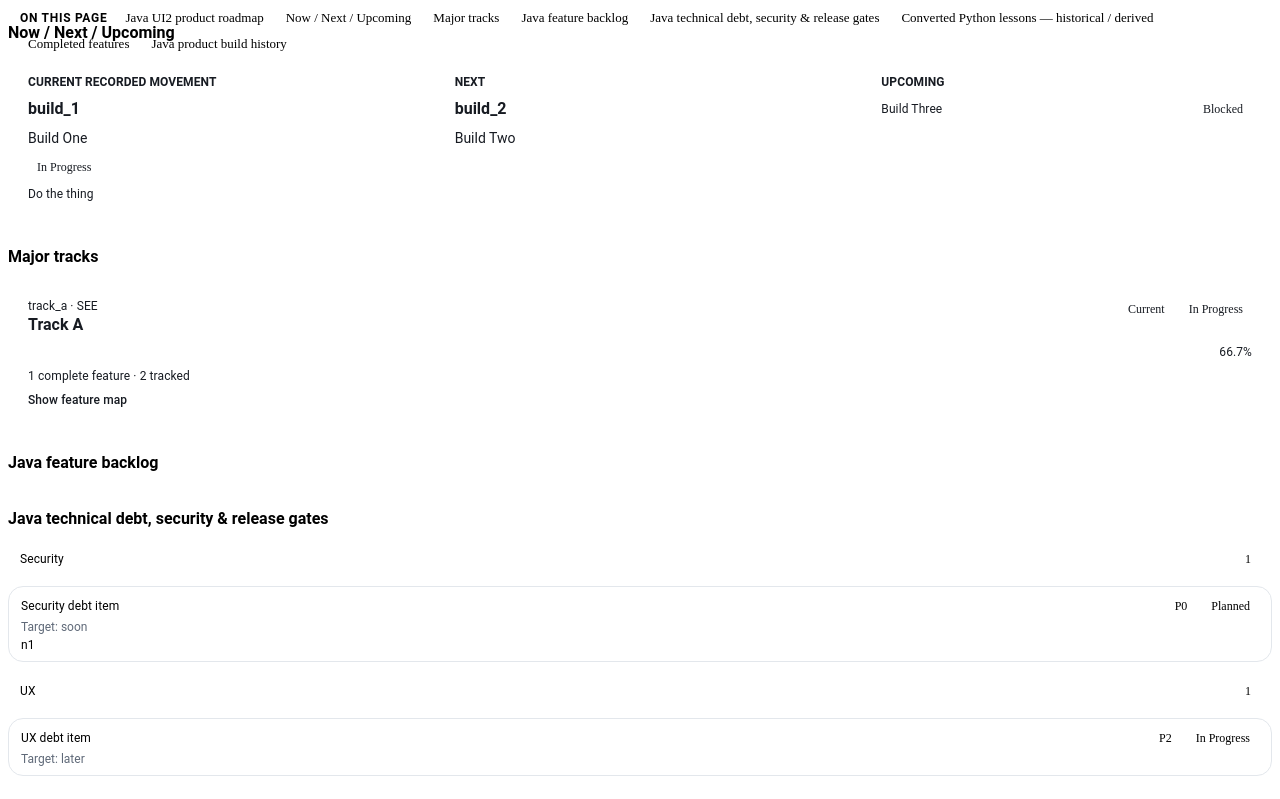
ProjectPlanPanel other sections › marks the current track and shows its feature map on expansion
(page scrolled)
Expected: the heading "Track A" is shown, [28,315,83,334]
Expected: the text "Current" is shown, [1128,302,1165,316]
Click the button "Show feature map" at [78, 400], box [28,393,127,407]
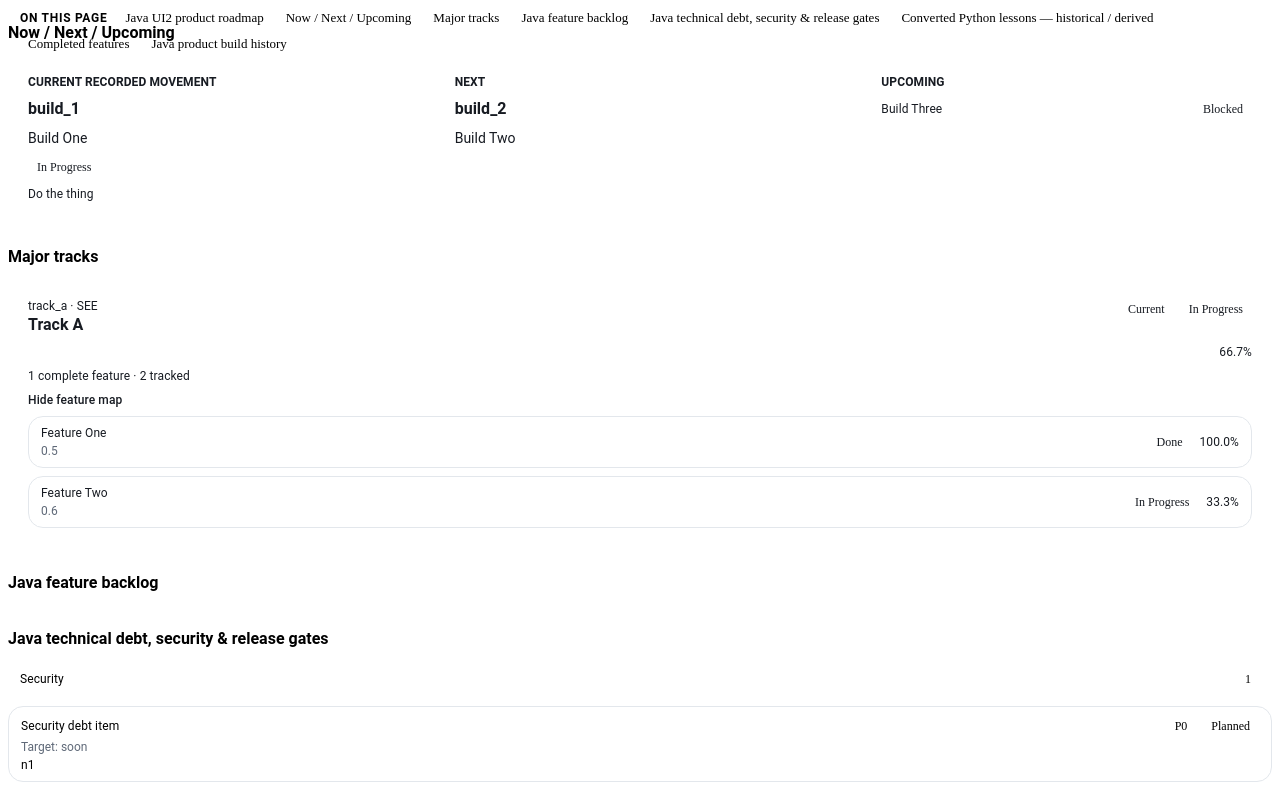
Result: the text "Feature One" is shown 2 times
Result: the text "Feature Two" is shown at [41,485,108,501]
